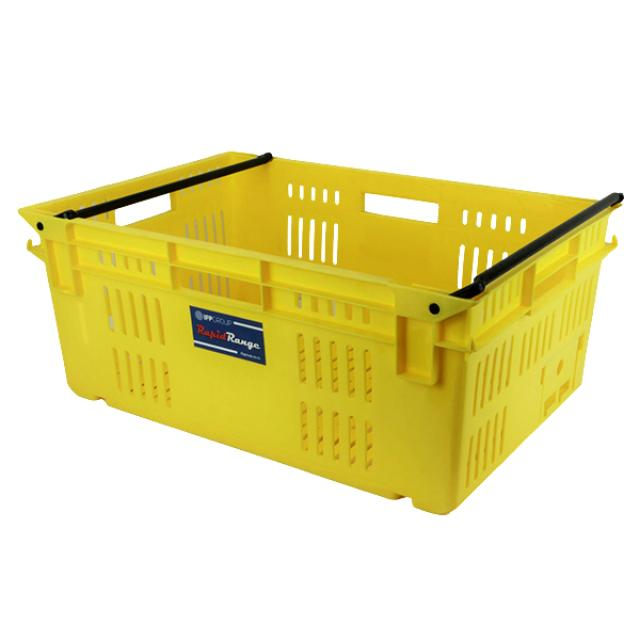basket: (0, 125, 625, 531)
